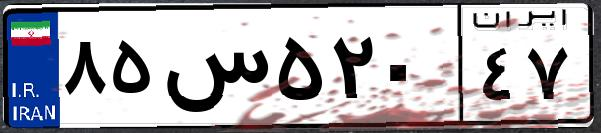0: (385, 28, 445, 110)
2: (330, 28, 385, 110)
4: (475, 38, 525, 113)
5: (270, 28, 330, 110), (110, 28, 158, 98)
7: (525, 38, 570, 115)
8: (57, 26, 110, 100)
س: (158, 20, 270, 120)
